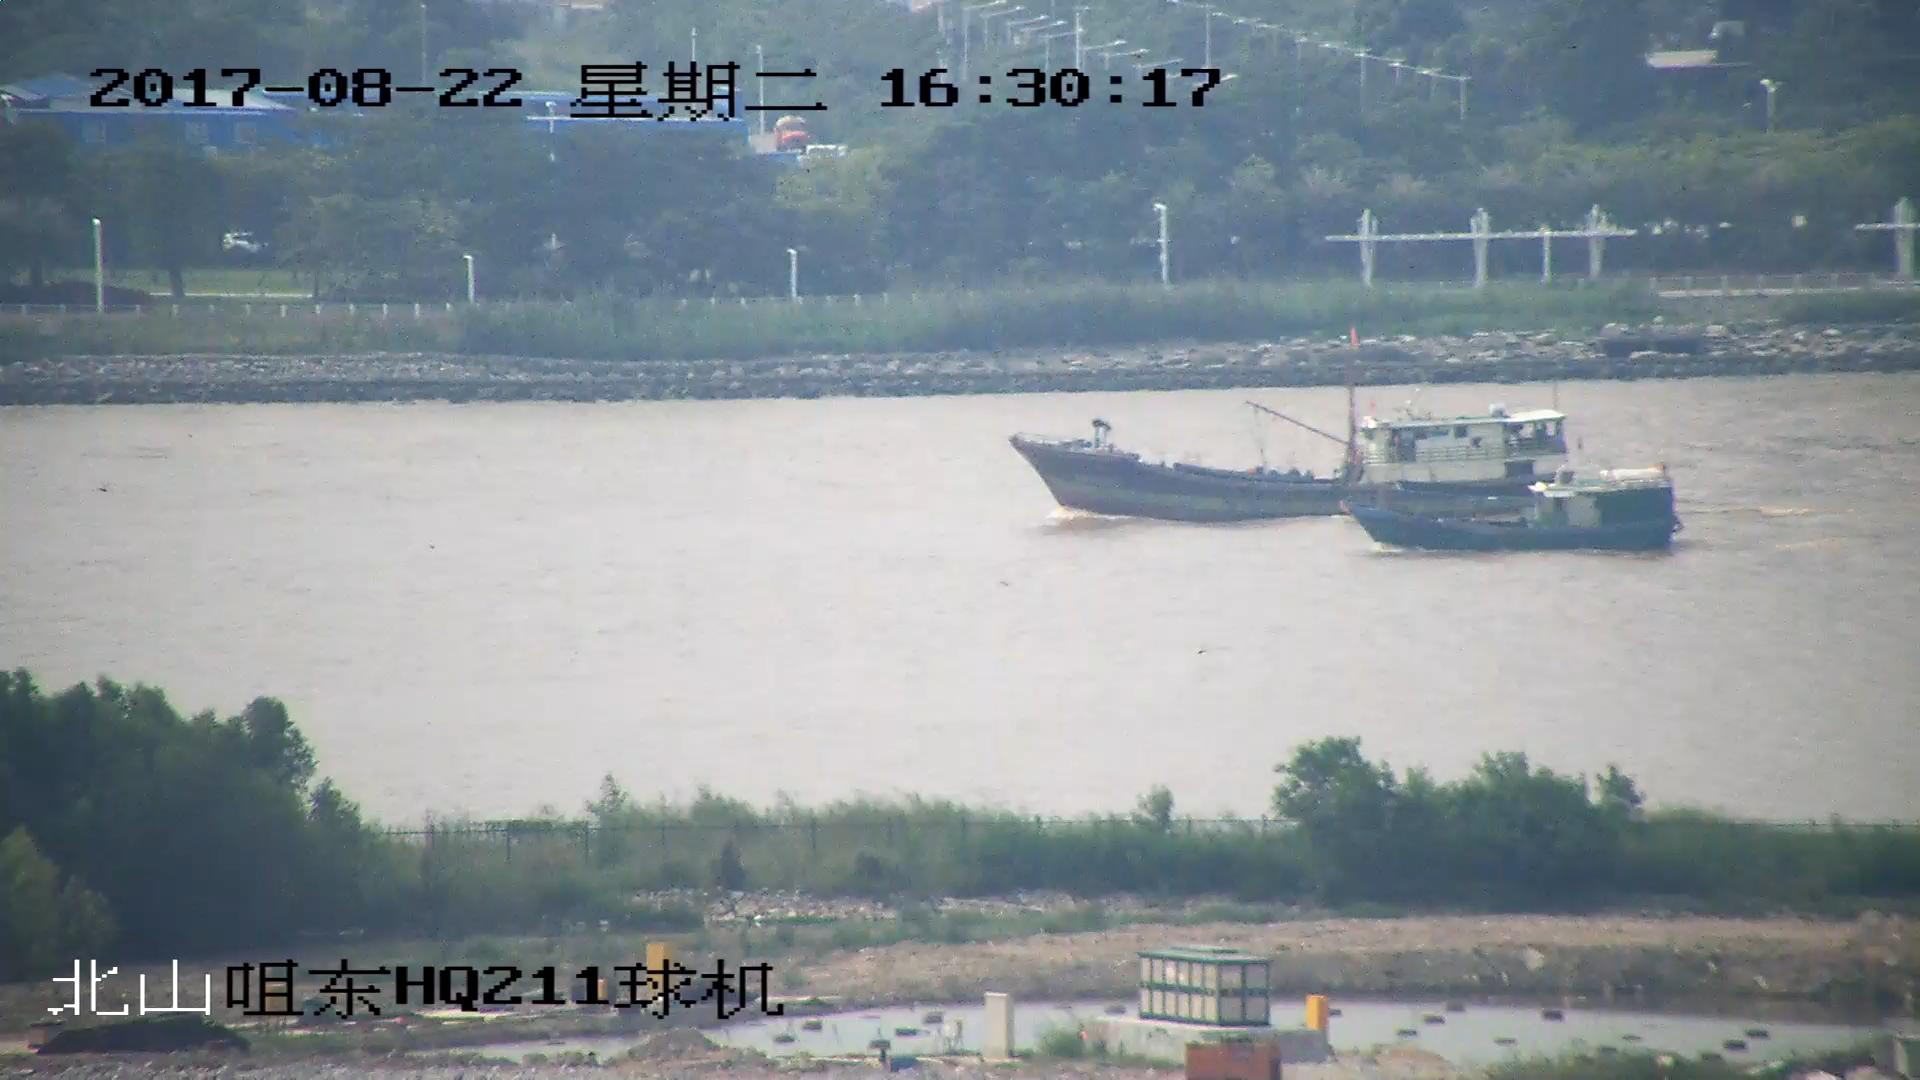fishing boat: (1010, 331, 1576, 522), (1350, 471, 1674, 552)
